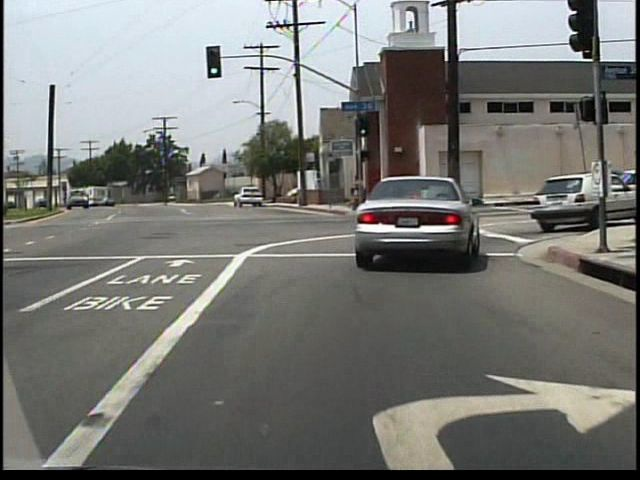person: (351, 174, 365, 211)
